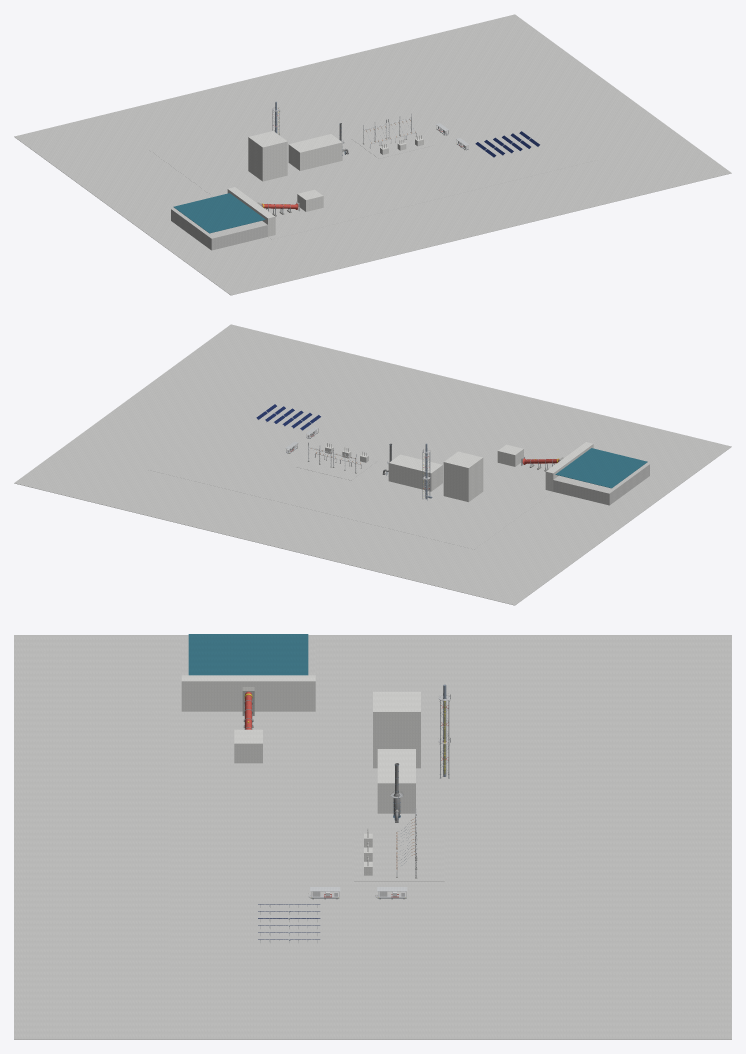
Rendered from plant-power.glb.
3 renders of one model, top to bottom at view 1: azimuth 30°, elevation 25°; view 2: azimuth 150°, elevation 25°; view 3: azimuth 270°, elevation 25°, orthographic. The views are drawn at different scales.
Parts seen in each view (by area): view 1: ENV_Grass, ENV_Ground, ENV_Reservoir, ENV_BoilerHouse, ENV_ReservoirBank, ENV_TurbineHall, ENV_Switchyard, ENV_Dam, ENV_Powerhouse; view 2: ENV_Grass, ENV_Ground, ENV_Reservoir, ENV_BoilerHouse, ENV_ReservoirBank, ENV_TurbineHall, ENV_Switchyard, ENV_Dam, ENV_Powerhouse; view 3: ENV_Grass, ENV_Ground, ENV_Reservoir, ENV_Dam, ENV_Switchyard, ENV_BoilerHouse, ENV_TurbineHall, ENV_Powerhouse.
Part boxes in pixels (x1,y1,x2,y2): ENV_Grass: (14,14,731,295); ENV_Ground: (149,70,596,239); ENV_Reservoir: (173,193,265,233); ENV_BoilerHouse: (248,131,287,181); ENV_ReservoirBank: (171,208,267,250); ENV_TurbineHall: (288,134,342,170); ENV_Switchyard: (351,125,433,158); ENV_Dam: (227,187,275,236); ENV_Powerhouse: (297,189,323,211); ENV_Grass: (14,324,731,605); ENV_Ground: (149,380,570,549); ENV_Reservoir: (555,448,647,488); ENV_BoilerHouse: (443,451,483,502); ENV_ReservoirBank: (553,463,649,505); ENV_TurbineHall: (388,454,442,491); ENV_Switchyard: (296,447,378,480); ENV_Dam: (545,442,593,491); ENV_Powerhouse: (497,444,523,466); ENV_Grass: (14,635,731,1039); ENV_Ground: (169,705,576,968); ENV_Reservoir: (188,634,308,675); ENV_Dam: (181,675,315,711); ENV_Switchyard: (354,837,444,881); ENV_BoilerHouse: (373,691,420,768); ENV_TurbineHall: (377,749,415,813); ENV_Powerhouse: (234,729,262,763).
Size of the model in its own units: 400 by 43.9 by 300.
Materials: 69 (67 with a texture image).
